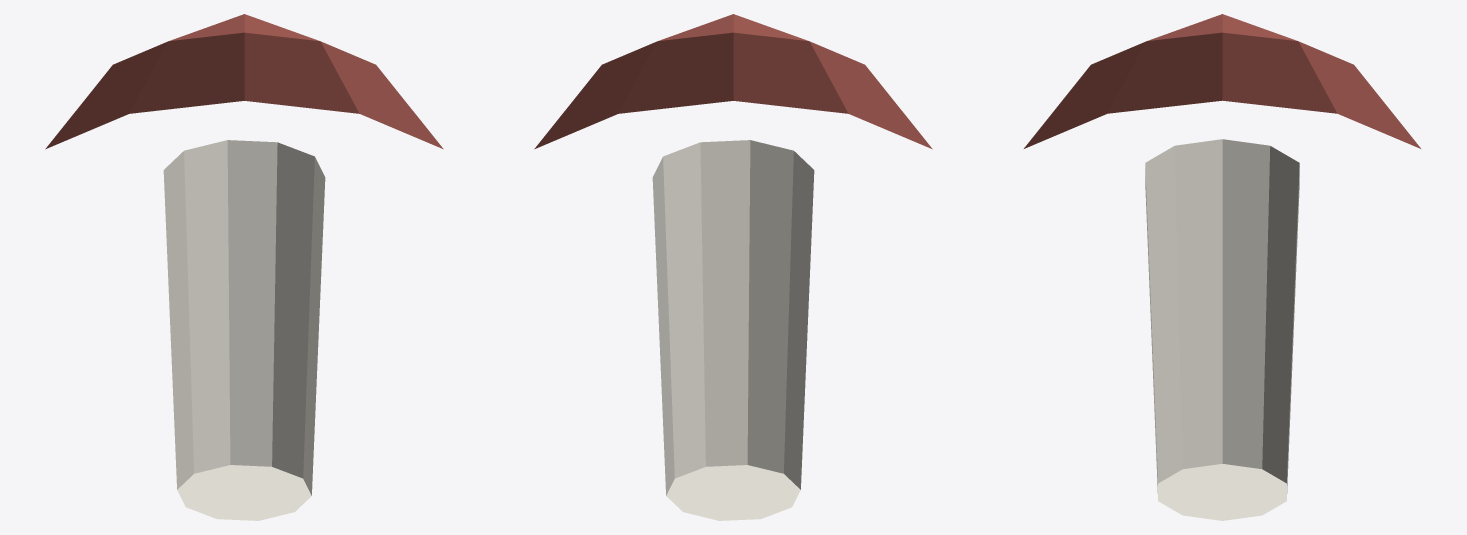
File: mushroom.glb
3 renders of one model, left to right at view 1: azimuth 30°, elevation 25°; view 2: azimuth 150°, elevation 25°; view 3: azimuth 270°, elevation 25°, orthographic.
Parts seen in each view (by area): view 1: mushroom-stem, mushroom-cap; view 2: mushroom-stem, mushroom-cap; view 3: mushroom-stem, mushroom-cap.
Boxes of the visible parts, x1,y1,x2,y2 form: mushroom-stem: [163, 140, 325, 520]; mushroom-cap: [45, 14, 443, 149]; mushroom-stem: [652, 140, 814, 520]; mushroom-cap: [534, 14, 932, 149]; mushroom-stem: [1145, 139, 1299, 520]; mushroom-cap: [1024, 14, 1420, 148].
Bounding box in the file's own units: 0.68 × 0.78 × 0.68.
